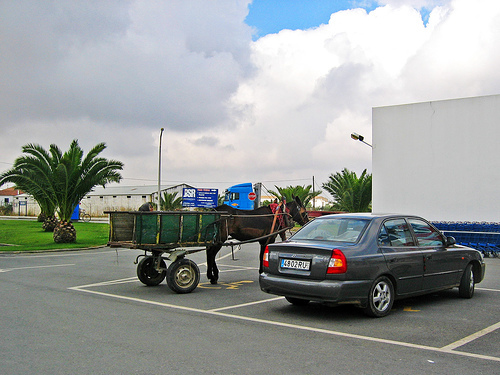horse: (204, 193, 311, 287)
